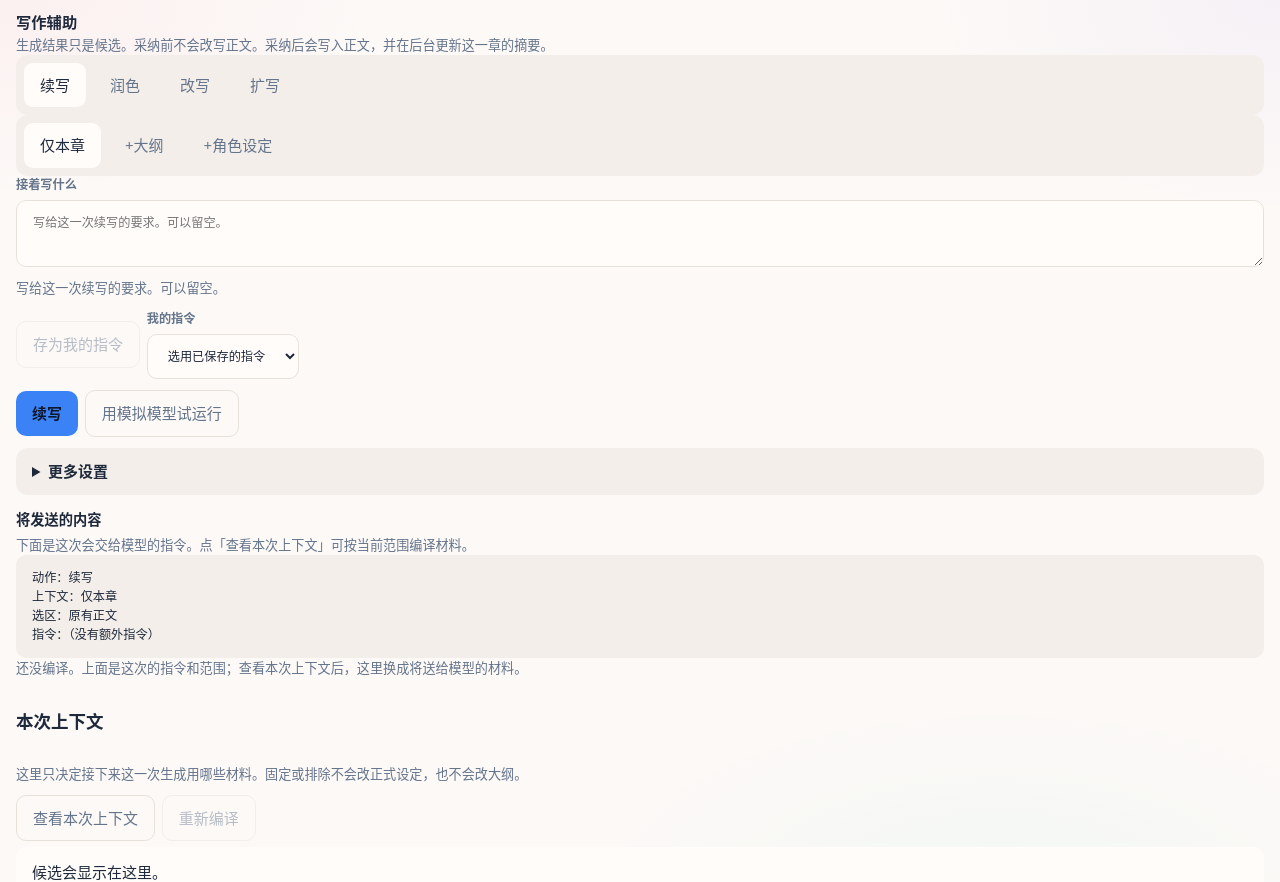
Scenario: AiPanel › shows the stored candidate when cancel arrives after the task already finished
Click the button "用模拟模型试运行" at (162, 414), box [85,390,239,437]
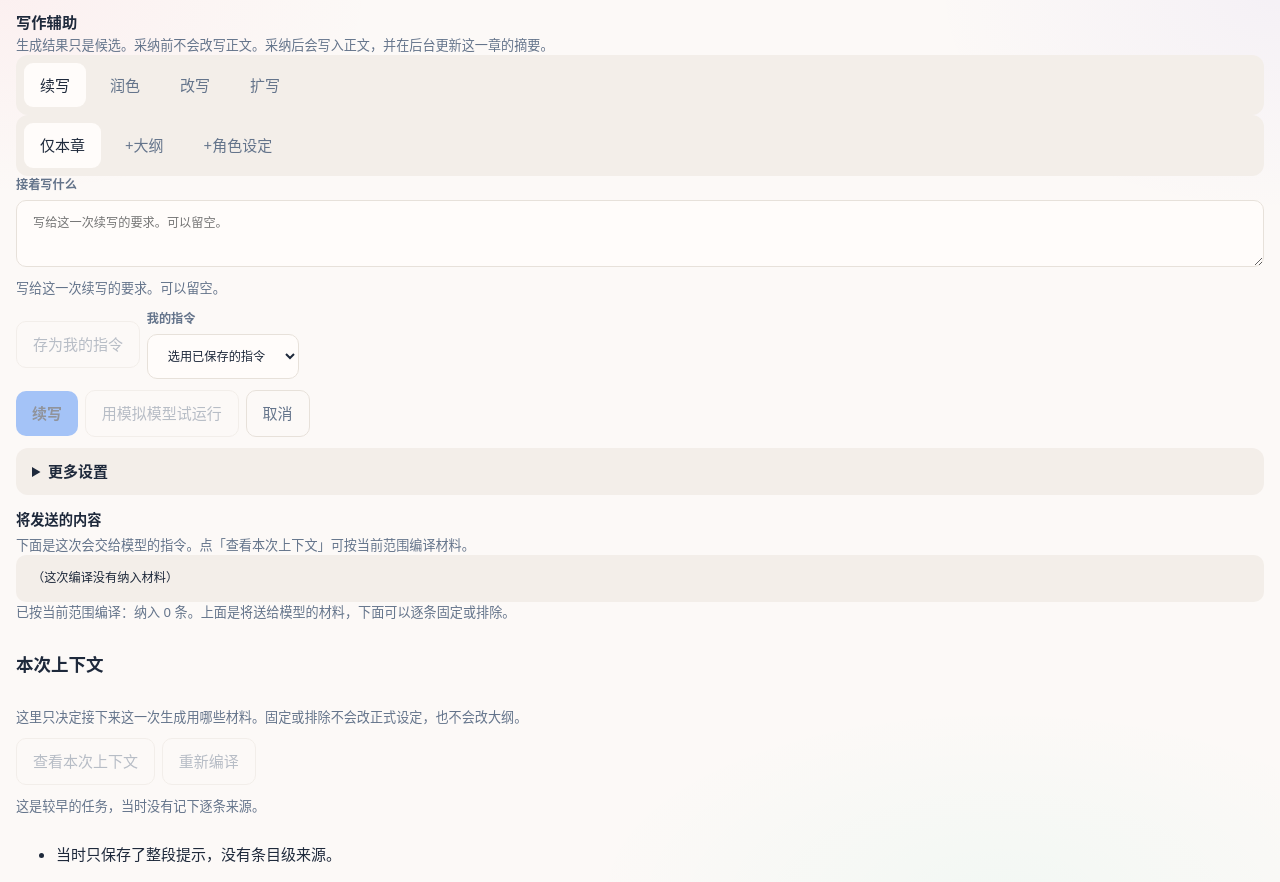
Click the button "取消" at (278, 414), box [246,390,310,437]
(page scrolled)
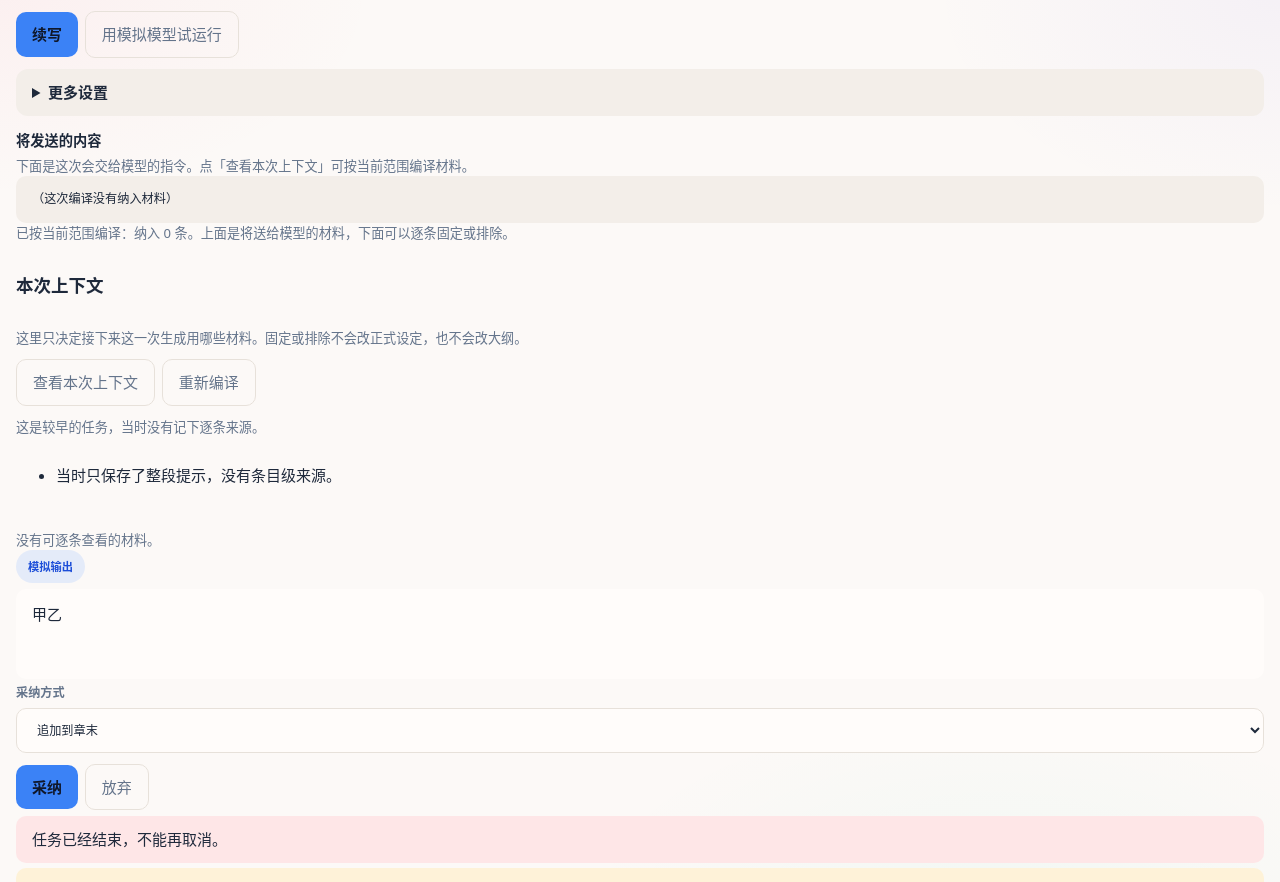
Result: the text "任务已经结束，不能再取消。" is shown at [16,816,1264,863]
Result: the text named "候选文本" reads "甲乙" at [32,604,62,624]
